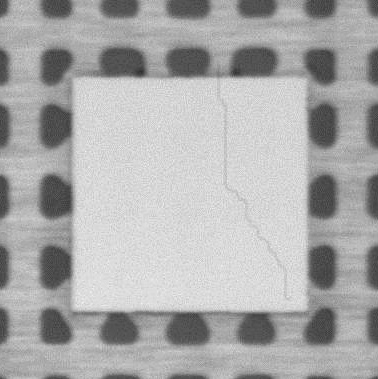DIE_CRACK: (216, 78, 290, 299)
